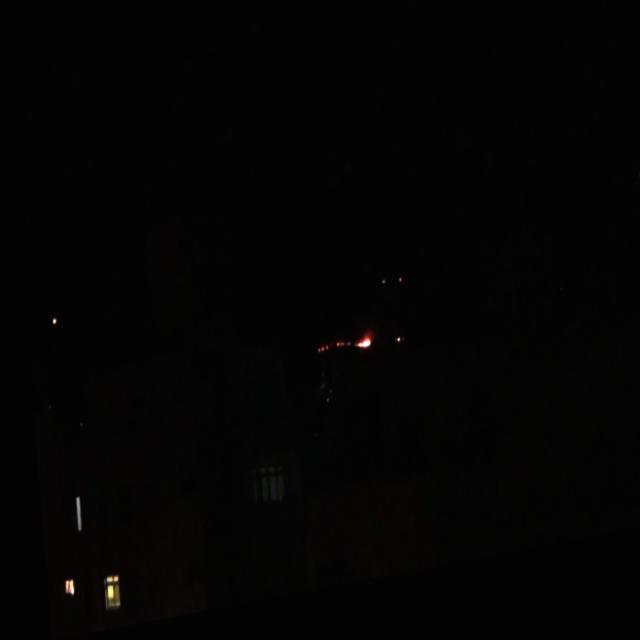Fire: (346, 346, 364, 366), (306, 350, 322, 364), (329, 348, 344, 362)
